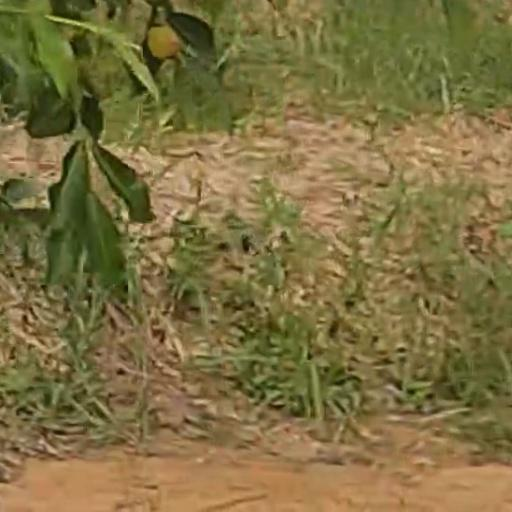acerola_vermelha: (147, 26, 177, 58)
